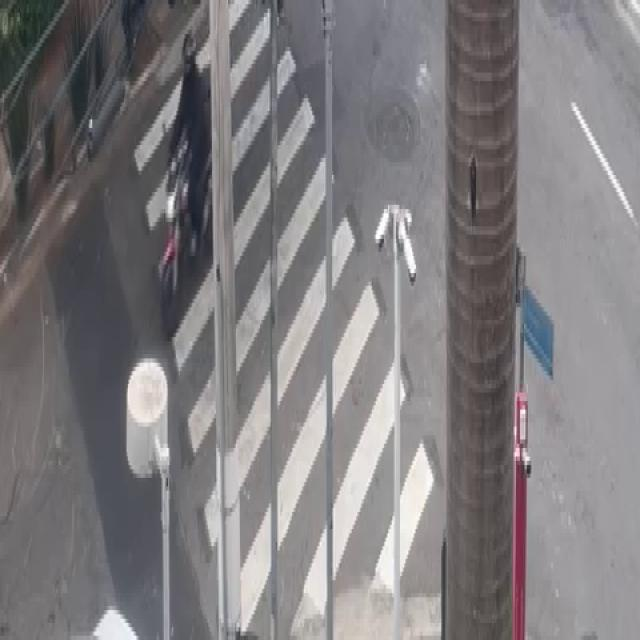motorbike: (151, 43, 228, 312)
